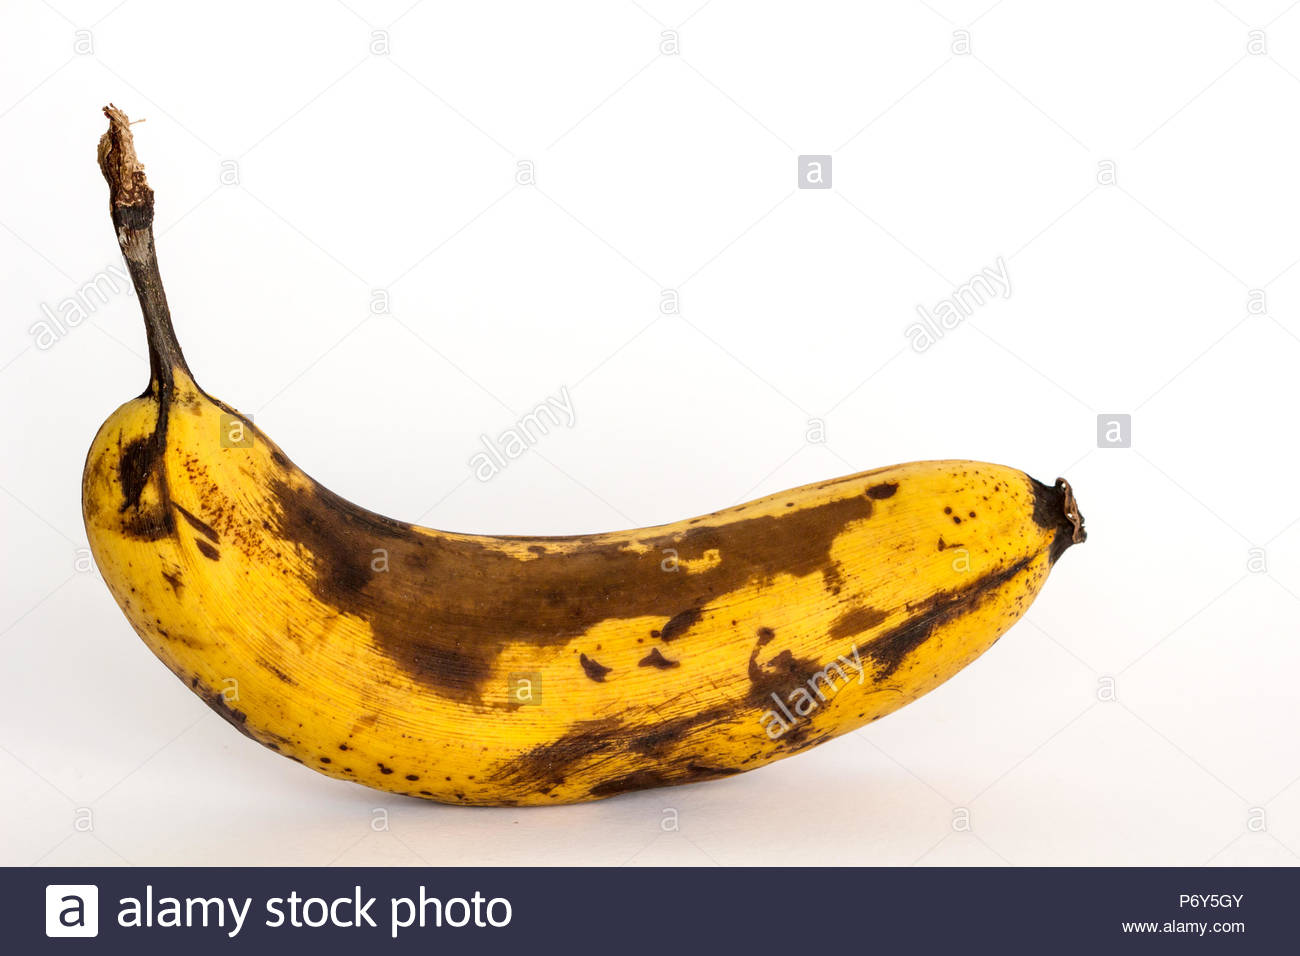damaged_banana: (65, 378, 1063, 776)
